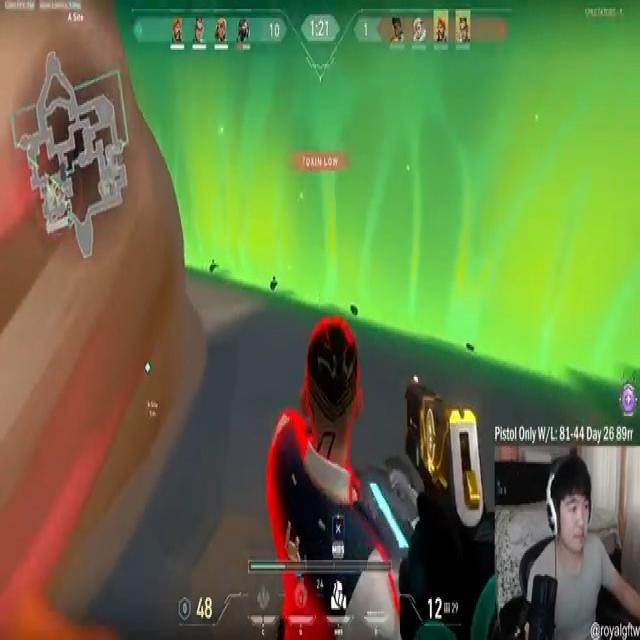enemy: (266, 316, 392, 640)
